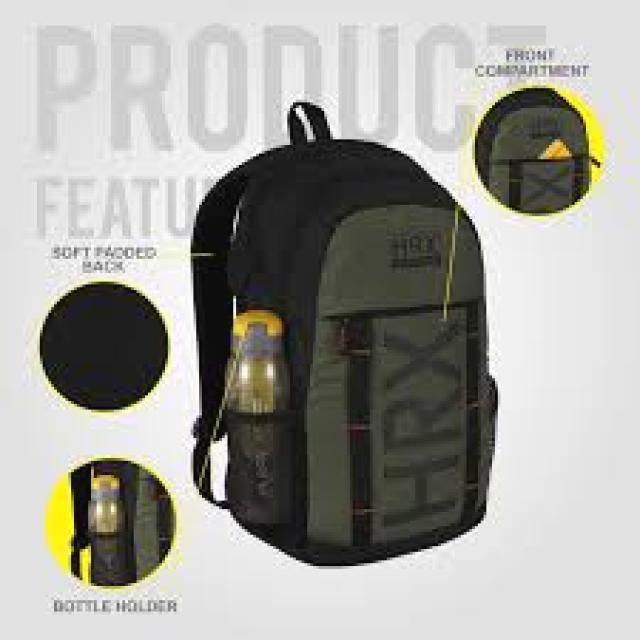backpack: (189, 101, 499, 567)
